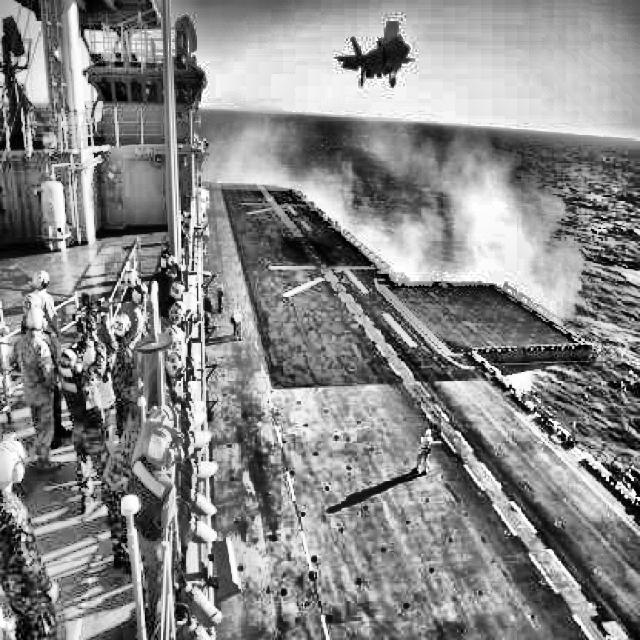F35: (335, 20, 416, 88)
